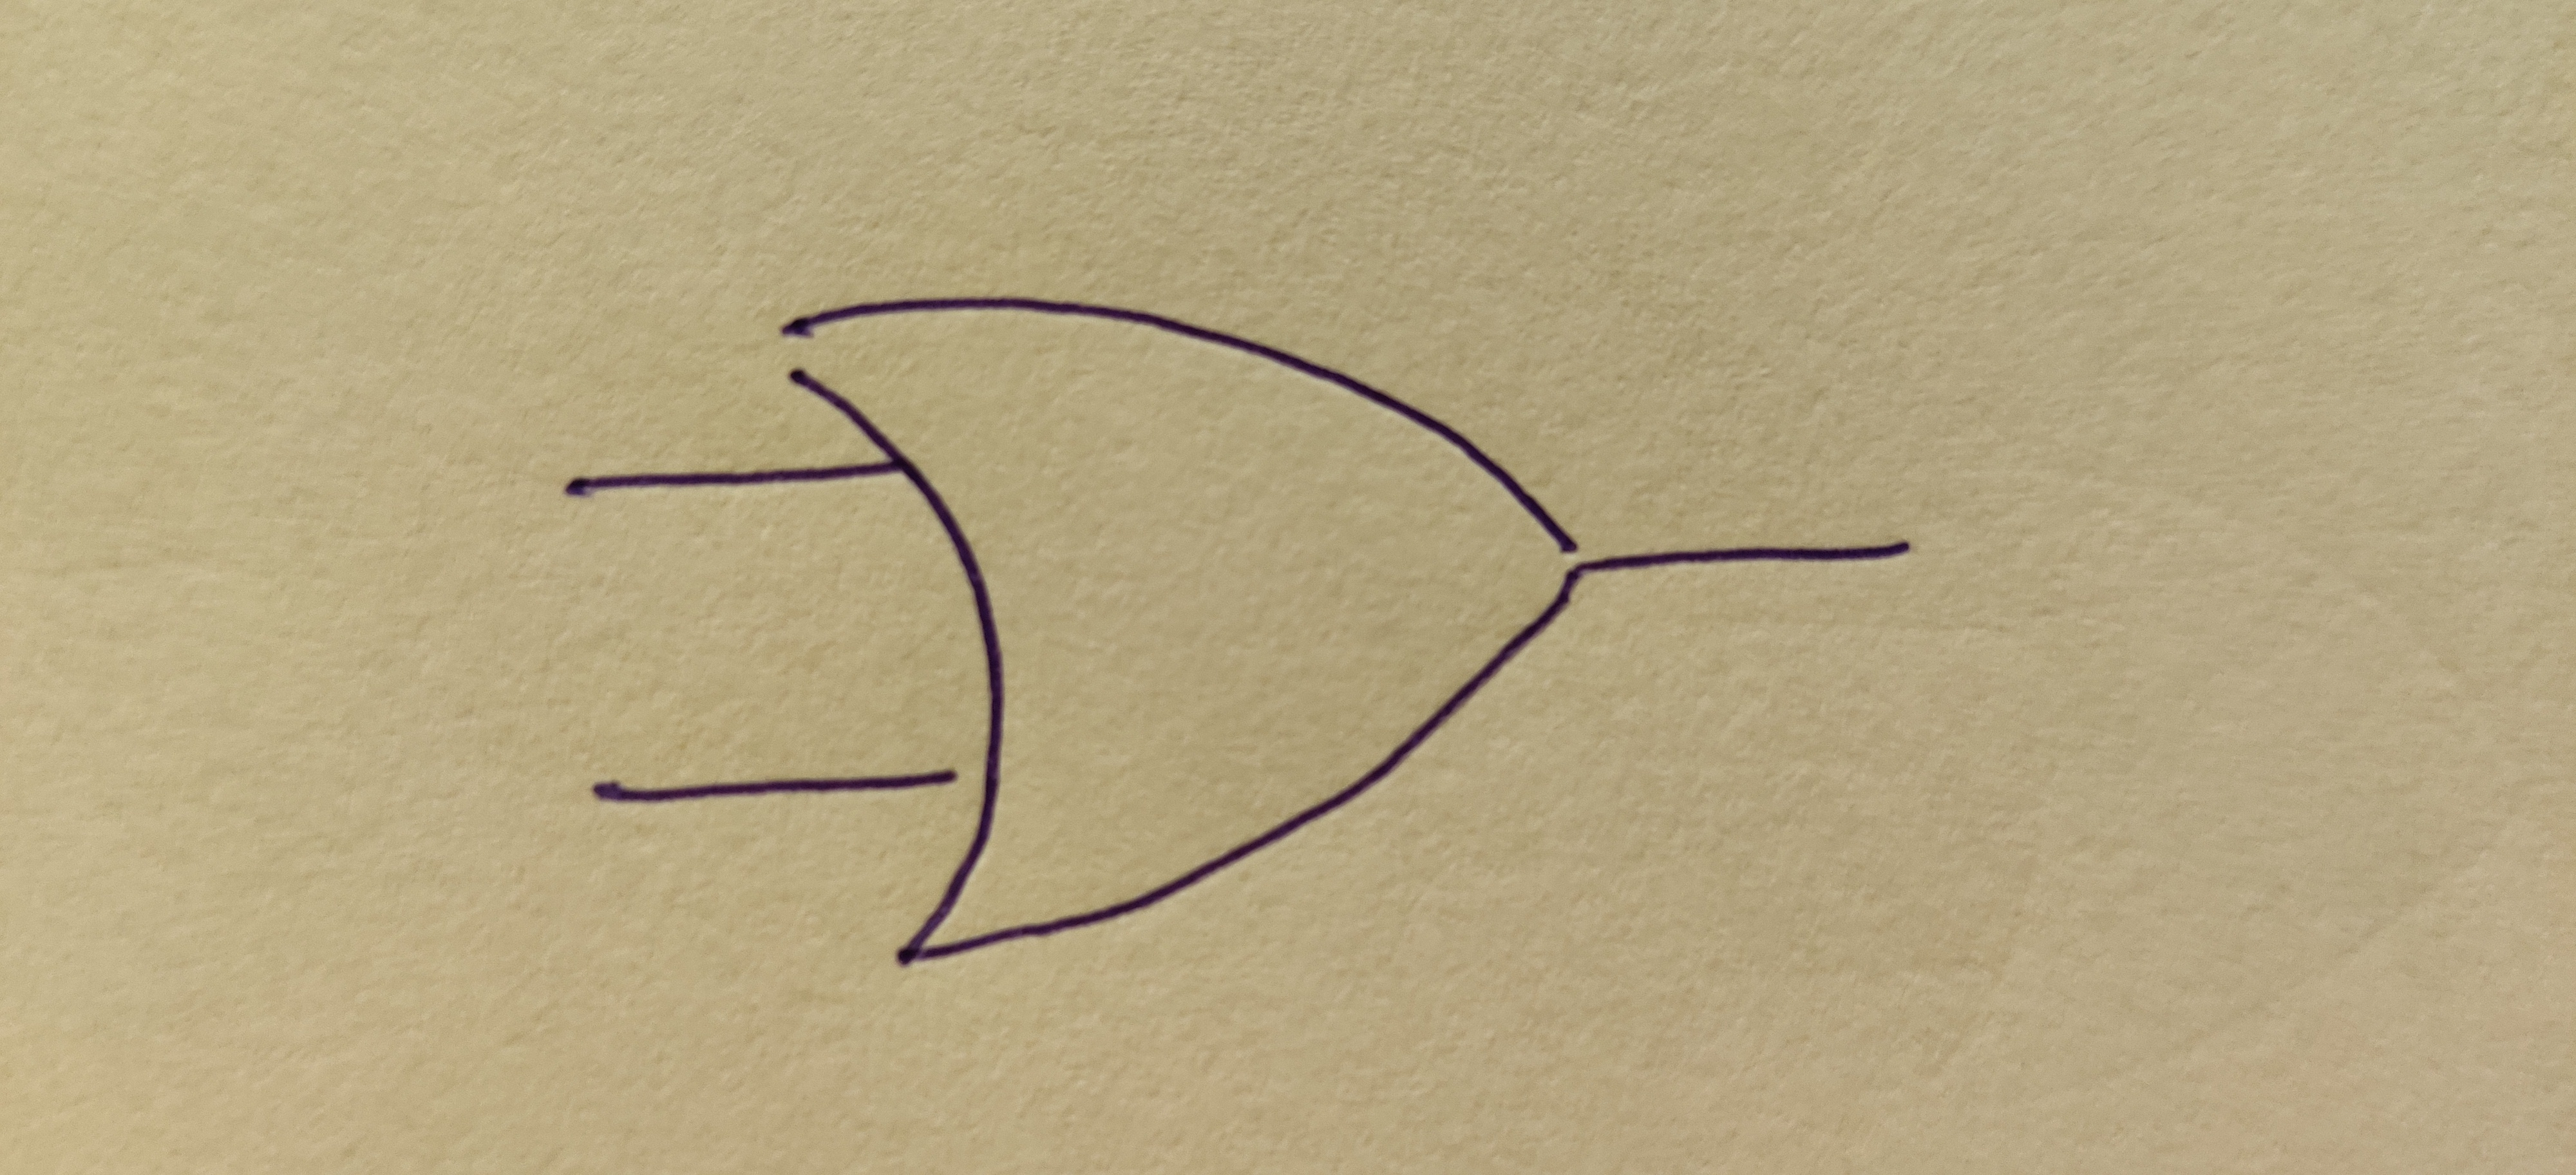or: (780, 296, 1582, 963)
